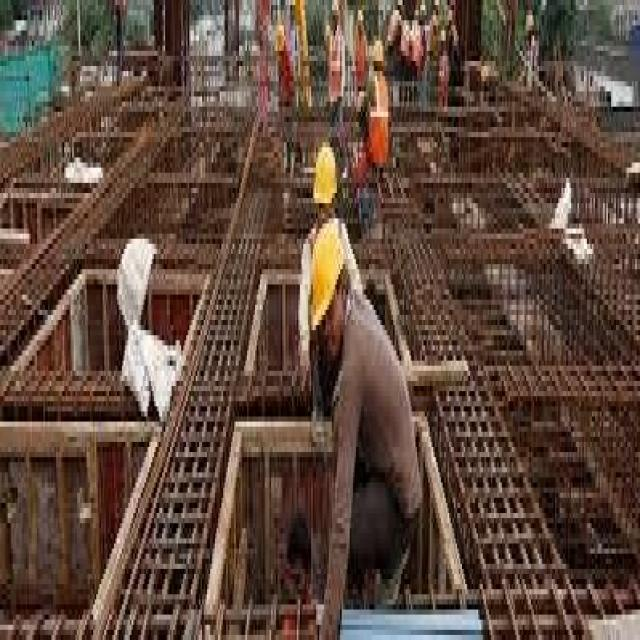Reflective-Jacket: (334, 285, 428, 523)
Safety-Helmet: (298, 218, 350, 346), (310, 132, 340, 218)
